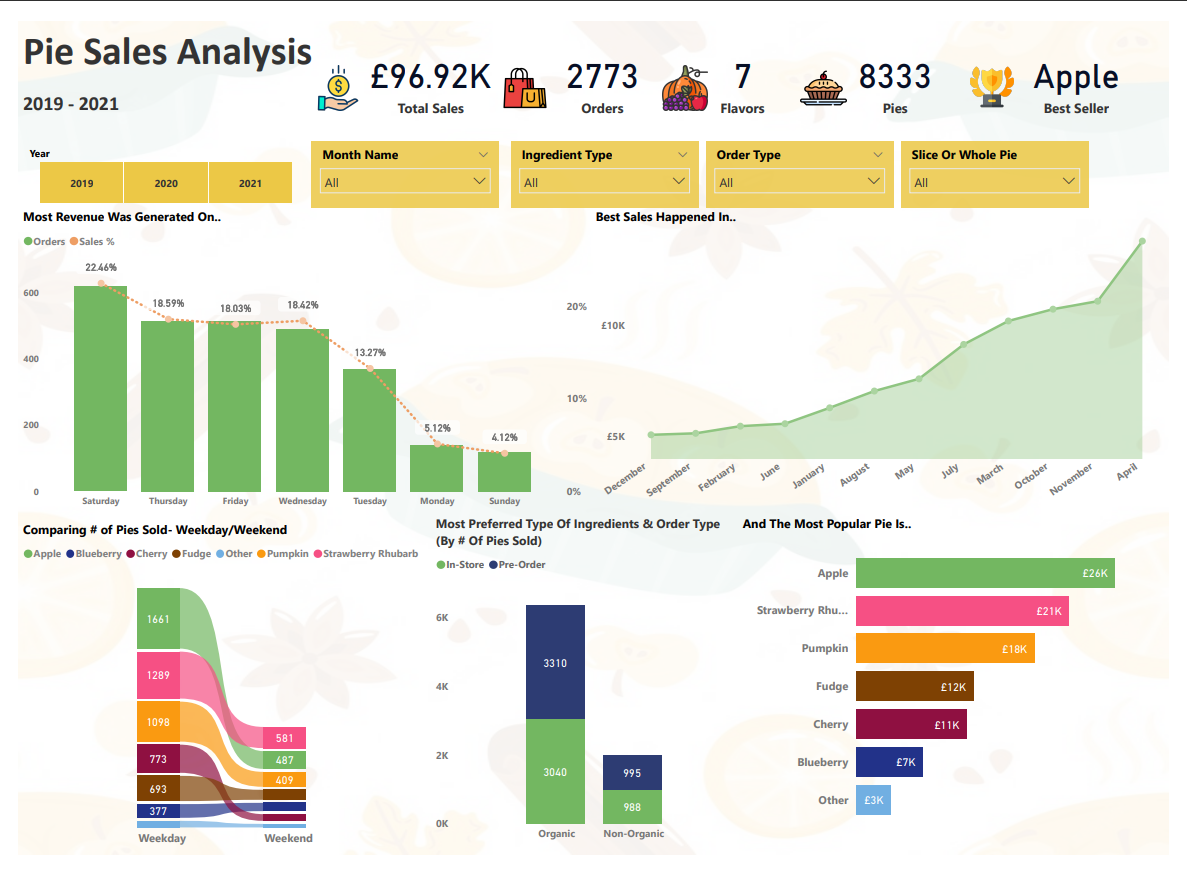

What the dashboard file says about the page in this screenshot:
{"tool":"powerbi","page":{"name":"Pie Sales DB","canvas":[1381,1000],"ordinal":0},"visuals":[{"type":"textbox","box":[0,0,368,128],"z":0},{"type":"group","id":"g1","title":"Group 1","box":[384,0,222,144],"z":0,"group":"g7"},{"type":"card","fields":{"Values":["Sum(Pie_data.Cost)"]},"box":[384,0,222,144],"z":0,"group":"g1"},{"type":"group","id":"g2","title":"Group 2","box":[592,0,220,144],"z":0,"group":"g8"},{"type":"card","fields":{"Values":["Count(Pie_data.Order NO)"]},"box":[592,0,220,144],"z":0,"group":"g2"},{"type":"card","fields":{"Values":["Sum(Pie_data.Quantity)"]},"box":[952.3,0,200,144],"z":0,"group":"g9"},{"type":"group","id":"g3","title":"Group 8","box":[1136,0,240,144],"z":0,"group":"g5"},{"type":"group","id":"g4","title":"Group 4","box":[1162.5,0,213.5,144],"z":0,"group":"g3"},{"type":"card","fields":{"Values":["Min(Pie_data.Pie Flavor)"]},"box":[1162.5,0,213.5,144],"z":0,"group":"g4"},{"type":"slicer","fields":{"Values":["Pie_data.Ingredient Type"]},"box":[592,144,225,80],"z":0,"group":"g6"},{"type":"card","fields":{"Values":["Count(Pie_data.Pie Flavor)"]},"box":[770,0,200,144],"z":1000,"group":"g10"},{"type":"image","box":[352,48,64,64],"z":1000,"group":"g7"},{"type":"image","box":[576,48,64,64],"z":1000,"group":"g8"},{"type":"image","box":[934.3,48,65,65],"z":1000,"group":"g9"},{"type":"image","box":[1136,48,66.4,62],"z":1000,"group":"g3"},{"type":"slicer","fields":{"Values":["Calendar_lookup.Month Name"]},"box":[352,144,225,80],"z":1000,"group":"g6"},{"type":"slicer","fields":{"Values":["Pie_data.Pre-Order/In-Store Purchase"]},"box":[825,144,225,80],"z":2000,"group":"g6"},{"type":"clusteredBarChart","title":"And The Most Popular Pie Is..","fields":{"Category":["Pie_data.Pie Flavor","Pie_data.Slice Or Whole Pie"],"Y":["Sum(Pie_data.Cost)"]},"box":[864,592,512,384],"z":2000},{"type":"slicer","fields":{"Values":["Pie_data.Slice Or Whole Pie"]},"box":[1060,144,225,80],"z":3000,"group":"g6"},{"type":"areaChart","title":"Best Sales Happened In..","fields":{"Category":["Calendar_lookup.Month Name"],"Y":["Sum(Pie_data.Cost)"]},"box":[688,224,688,368],"z":3000},{"type":"group","id":"g5","title":"Group 5","box":[1136,0,240,144],"z":4000,"group":"g11"},{"type":"lineStackedColumnComboChart","title":"Most Revenue Was Generated On..","fields":{"Category":["Calendar_lookup.Day Name"],"Y":["CountNonNull(Pie_data.Order NO)"],"Y2":["Divide(Sum(Pie_data.Cost), ScopedEval(Sum(Pie_data.Cost), []))"]},"box":[0,224,688,368],"z":5000},{"type":"slicer","fields":{"Values":["Calendar_lookup.Year"]},"box":[0,144,352,80],"z":6000},{"type":"ribbonChart","title":"Comparing # of Pies Sold- Weekday/Weekend","fields":{"Category":["Calendar_lookup.Weekend?"],"Series":["Pie_data.Pie Flavor"],"Y":["Sum(Pie_data.Quantity)"]},"box":[0,600,496,400],"z":7000},{"type":"group","id":"g6","title":"Filters","box":[352,144,928,80],"z":8000},{"type":"columnChart","title":"Most Preferred Type Of Ingredients & Order Type (By # Of Pies Sold)","fields":{"Y":["Sum(Pie_data.Quantity)"],"Series":["Pie_data.Pre-Order/In-Store Purchase"],"Category":["Pie_data.Ingredient Type"]},"box":[496,592,368,400],"z":9000},{"type":"group","id":"g7","title":"Group 3","box":[352,0,256,144],"z":10000,"group":"g11"},{"type":"group","id":"g8","title":"Group 6","box":[576,0,236,144],"z":11000,"group":"g11"},{"type":"group","id":"g9","title":"Group 7","box":[934.3,0,218,144],"z":12000,"group":"g11"},{"type":"image","box":[768,48,64,64],"z":13000,"group":"g10"},{"type":"group","id":"g10","title":"Group 9","box":[768,0,202,144],"z":13001,"group":"g11"},{"type":"group","id":"g11","title":"Stats cards","box":[352,0,1024,144],"z":13002}]}

Visuals, with their boxes in screenshot pixels (x1, y1, x2, y2), scaled from the page's 1381x1000 canvas onto the 1187x872 screenshot:
textbox: (0,0,316,112)
"Group 1" group: (330,0,521,126)
card - Sum(Pie_data.Cost): (330,0,521,126)
"Group 2" group: (509,0,698,126)
card - Count(Pie_data.Order NO): (509,0,698,126)
card - Sum(Pie_data.Quantity): (819,0,990,126)
"Group 8" group: (976,0,1183,126)
"Group 4" group: (999,0,1183,126)
card - Min(Pie_data.Pie Flavor): (999,0,1183,126)
slicer - Pie_data.Ingredient Type: (509,126,702,195)
card - Count(Pie_data.Pie Flavor): (662,0,834,126)
image: (303,42,358,98)
image: (495,42,550,98)
image: (803,42,859,99)
image: (976,42,1033,96)
slicer - Calendar_lookup.Month Name: (303,126,496,195)
slicer - Pie_data.Pre-Order/In-Store Purchase: (709,126,902,195)
"And The Most Popular Pie Is.." clusteredBarChart: (743,516,1183,851)
slicer - Pie_data.Slice Or Whole Pie: (911,126,1104,195)
"Best Sales Happened In.." areaChart: (591,195,1183,516)
"Group 5" group: (976,0,1183,126)
"Most Revenue Was Generated On.." lineStackedColumnComboChart: (0,195,591,516)
slicer - Calendar_lookup.Year: (0,126,303,195)
"Comparing # of Pies Sold- Weekday/Weekend" ribbonChart: (0,523,426,871)
"Filters" group: (303,126,1100,195)
"Most Preferred Type Of Ingredients & Order Type (By # Of Pies Sold)" columnChart: (426,516,743,865)
"Group 3" group: (303,0,523,126)
"Group 6" group: (495,0,698,126)
"Group 7" group: (803,0,990,126)
image: (660,42,715,98)
"Group 9" group: (660,0,834,126)
"Stats cards" group: (303,0,1183,126)
